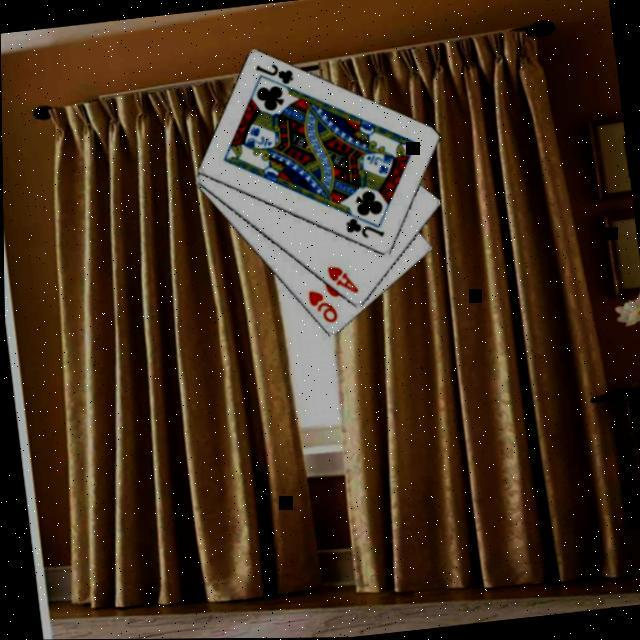9H: (303, 283, 340, 326)
AH: (324, 259, 361, 297)
JC: (252, 57, 297, 89), (342, 211, 386, 241)
